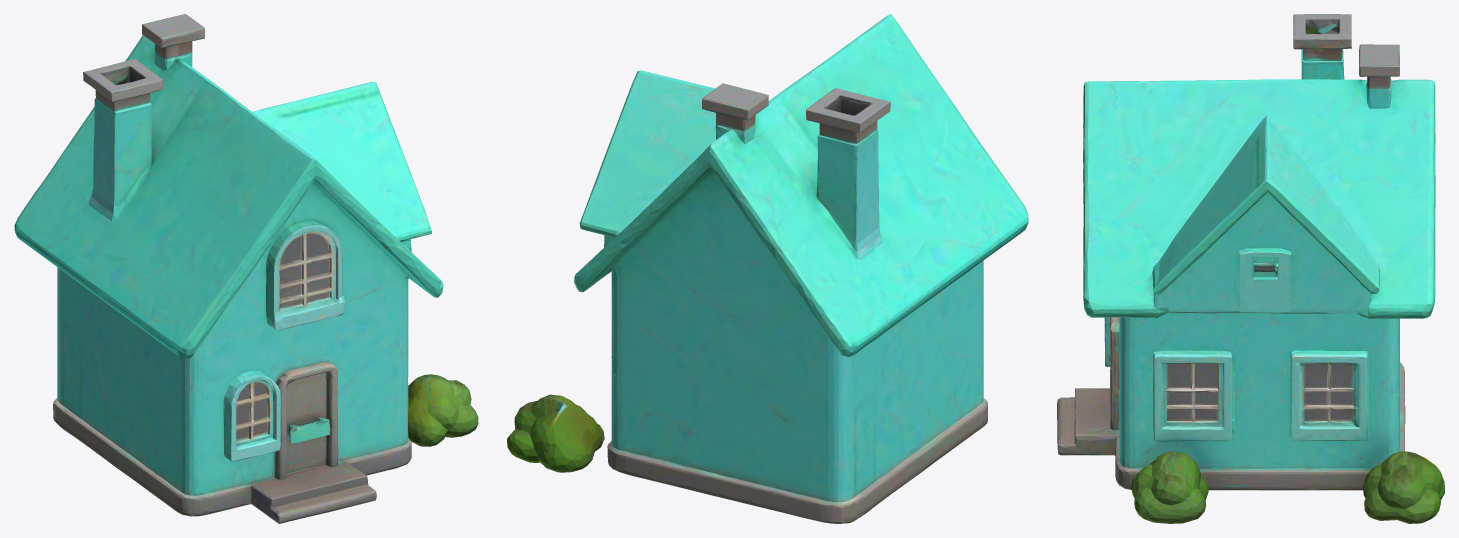
File: house_f.glb
The picture shows the model from 3 angles, left to right: view 1: azimuth 30°, elevation 25°; view 2: azimuth 150°, elevation 25°; view 3: azimuth 270°, elevation 25°; orthographic projection. The views are drawn at different scales.
Parts seen in each view (by area): view 1: temp_Material.001_0; view 2: temp_Material.001_0; view 3: temp_Material.001_0.
Boxes of the visible parts, <box> form: temp_Material.001_0: <box>14,14,478,523</box>; temp_Material.001_0: <box>507,14,1028,523</box>; temp_Material.001_0: <box>1057,14,1444,523</box>.
Bounding box in the file's own units: 1.87 × 2 × 1.86.
1 material, 1 textured.
